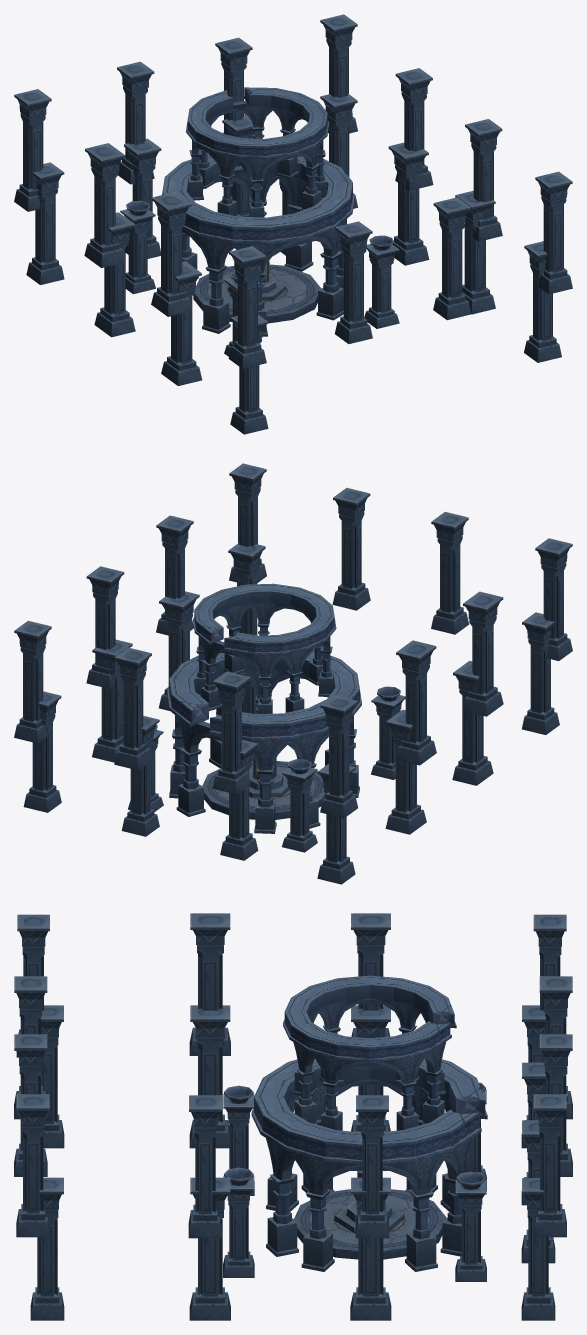
Rendered from Area_05_2.fbx.
3 renders of one model, top to bottom at view 1: azimuth 30°, elevation 25°; view 2: azimuth 150°, elevation 25°; view 3: azimuth 270°, elevation 25°, orthographic. The views are drawn at different scales.
Visible parts, largest first — view 1: Area_05_2; view 2: Area_05_2; view 3: Area_05_2.
Boxes of the visible parts, box(x1,y1,x2,y2) form: Area_05_2: box(14, 14, 572, 434); Area_05_2: box(14, 463, 572, 884); Area_05_2: box(14, 913, 572, 1320).
Bounding box in the file's own units: 3785 × 1984 × 4555.
